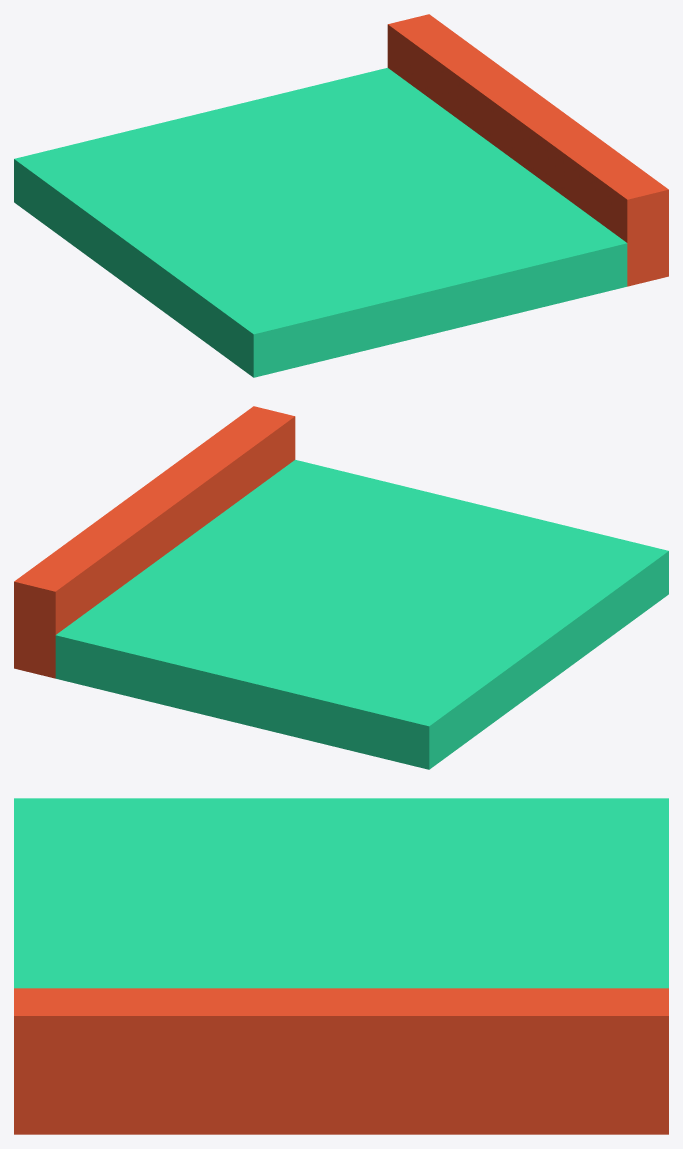
File: track_border_1_side.fbx
3 renders of one model, top to bottom at view 1: azimuth 30°, elevation 25°; view 2: azimuth 150°, elevation 25°; view 3: azimuth 270°, elevation 25°, orthographic. The views are drawn at different scales.
Parts seen in each view (by area): view 1: side_28; view 2: side_28; view 3: side_28.
Boxes of the visible parts, <box> form: side_28: <box>14,14,668,377</box>; side_28: <box>14,406,668,769</box>; side_28: <box>14,798,668,1134</box>.
Bounding box in the file's own units: 10 × 2 × 10.
